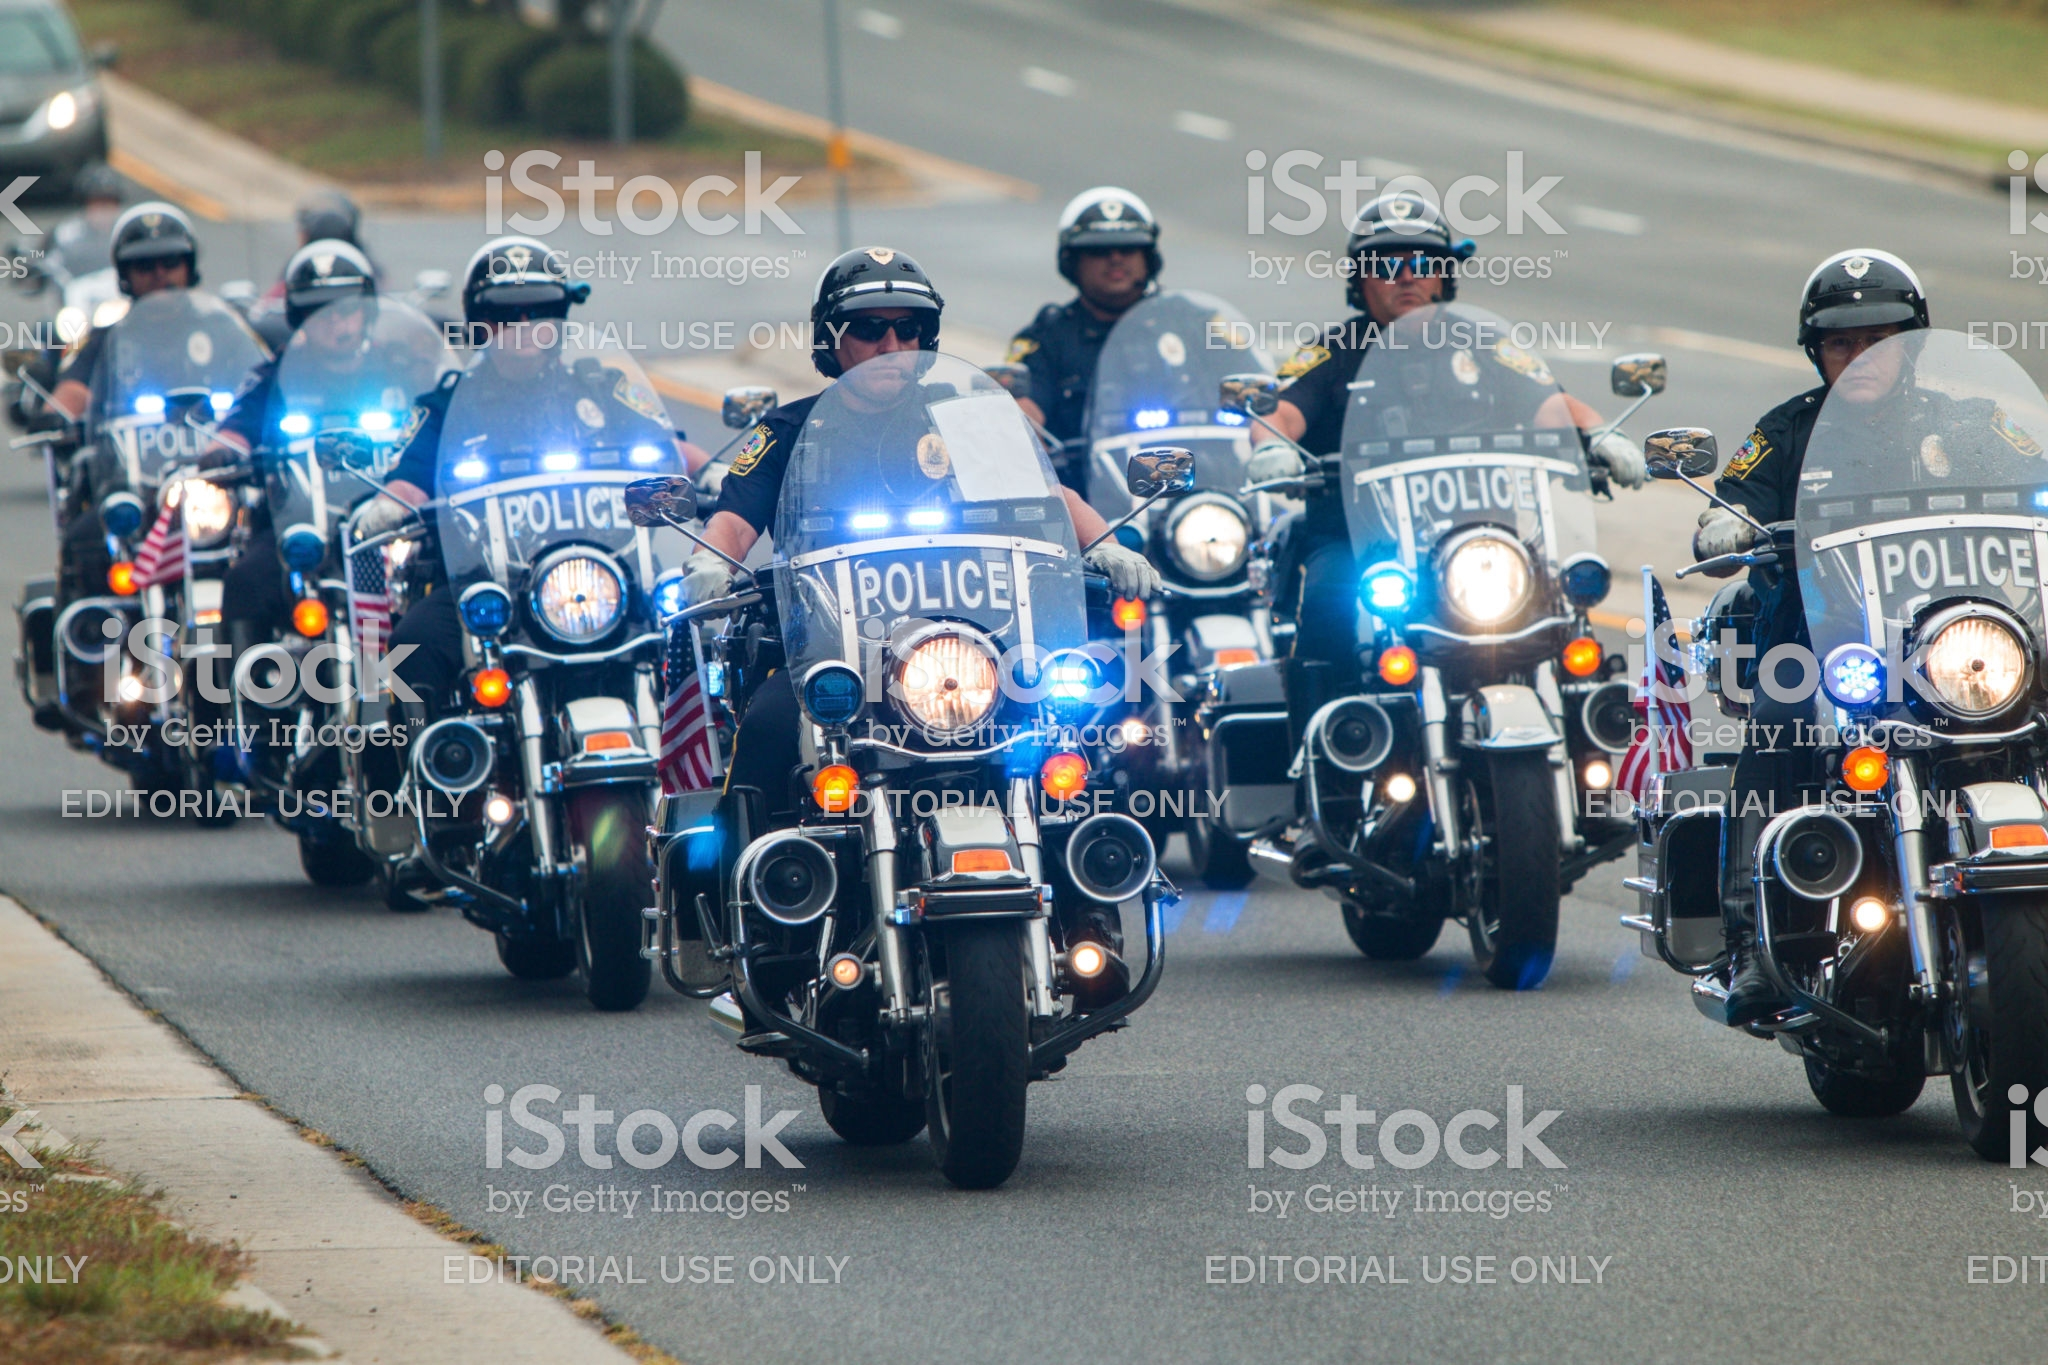helmet: (786, 229, 949, 331), (1045, 178, 1191, 283), (1792, 233, 1922, 344), (445, 242, 588, 329), (1341, 198, 1469, 271), (271, 250, 379, 329)
